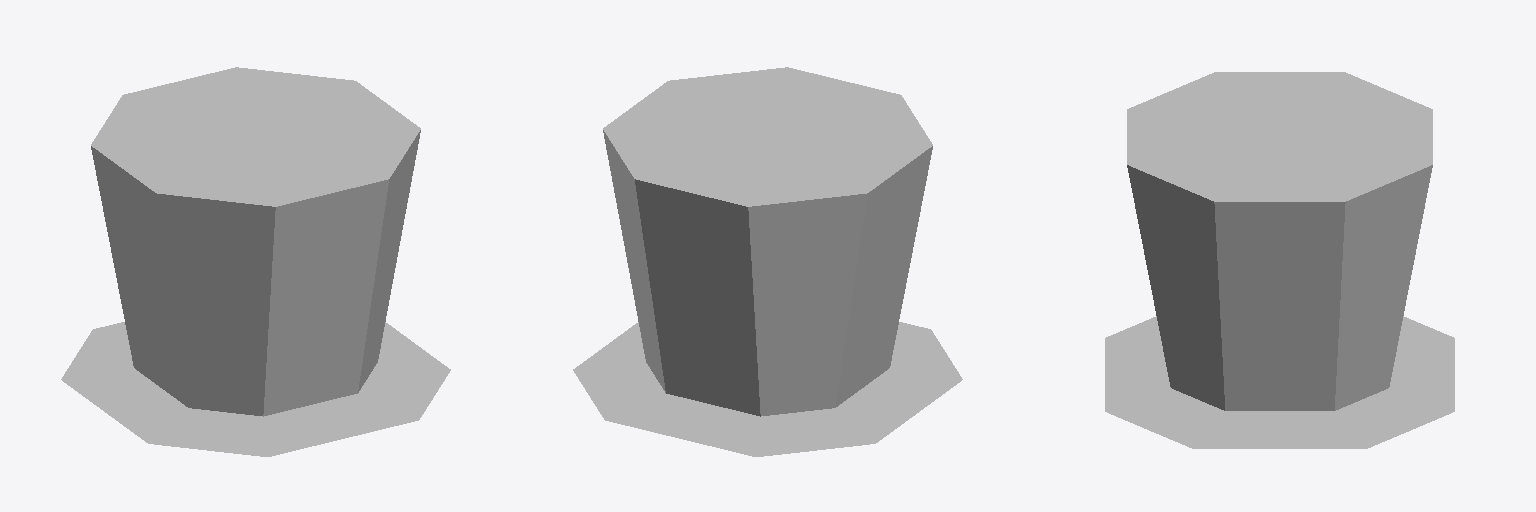
Rendered from Garbage Can.obj.
The picture shows the model from 3 angles: view 1: azimuth 30°, elevation 25°; view 2: azimuth 150°, elevation 25°; view 3: azimuth 270°, elevation 25°; orthographic projection.
Visible parts, largest first — view 1: polygon1, polygon0; view 2: polygon1, polygon0; view 3: polygon1, polygon0.
Boxes of the visible parts, x1=… form: polygon1: x1=91, y1=67, x2=420, y2=416; polygon0: x1=61, y1=322, x2=450, y2=456; polygon1: x1=603, y1=67, x2=932, y2=416; polygon0: x1=573, y1=322, x2=962, y2=456; polygon1: x1=1127, y1=72, x2=1432, y2=410; polygon0: x1=1105, y1=316, x2=1454, y2=448.
Bounding box in the file's own units: 16 × 12 × 16.